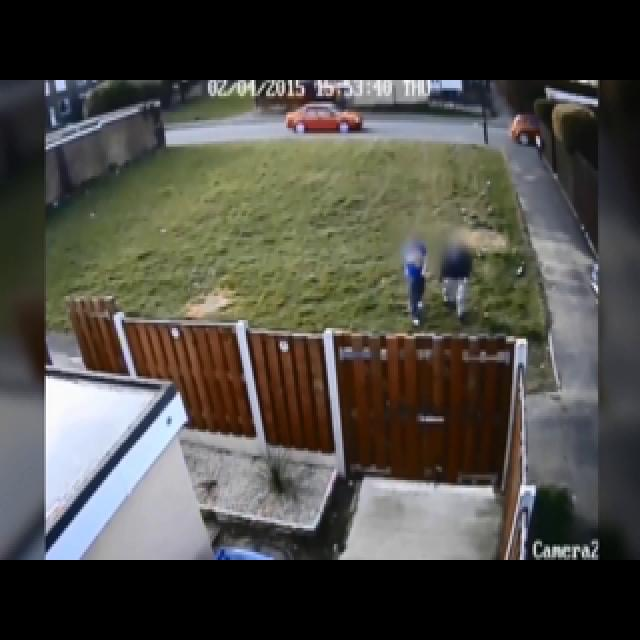shooting: (324, 178, 562, 566), (389, 332, 563, 568)
